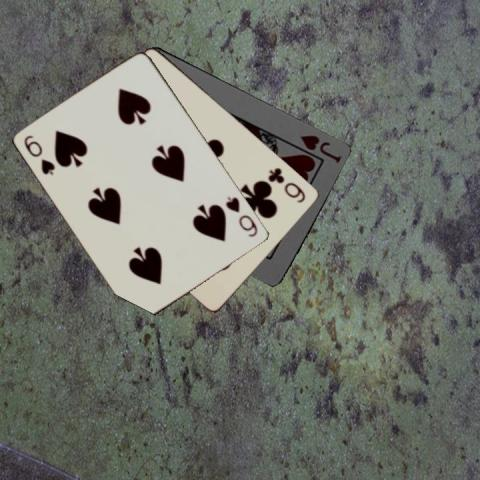6c: (266, 164, 308, 205)
6s: (223, 193, 260, 239), (21, 132, 57, 177)
Jh: (298, 130, 344, 165)
